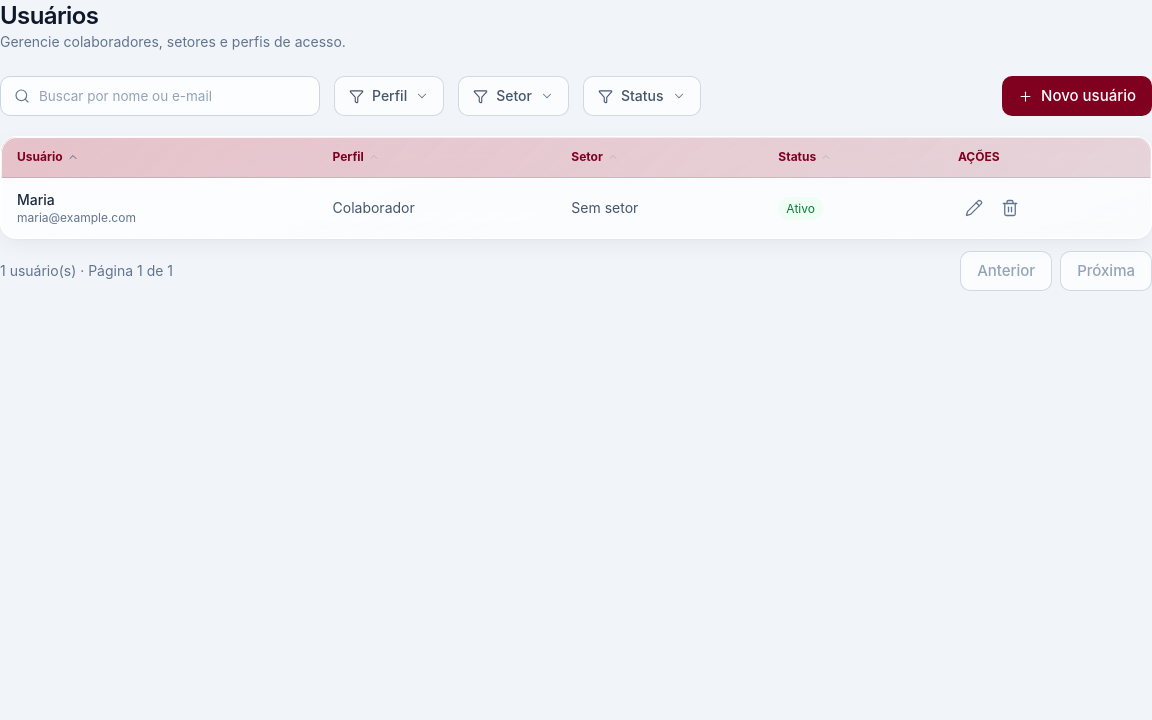
Test: USU-01/USU-02 — paginação e falhas de validação › preserva o formulário e associa e-mail duplicado ao campo
Expected: the text "Maria" is shown, [17, 191, 55, 208]
Click the button "Novo usuário": (1077, 96) [1002, 76, 1151, 116]
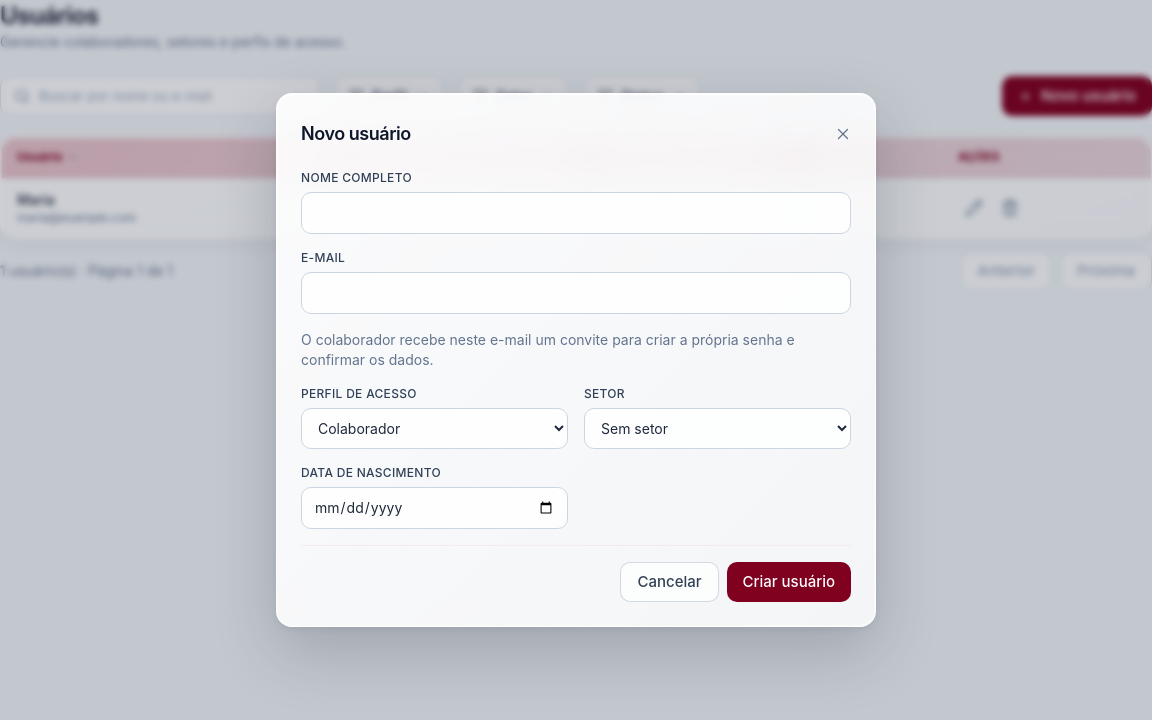
In the field labelled "Nome completo": (576, 213) [301, 192, 851, 234], type "Maria"
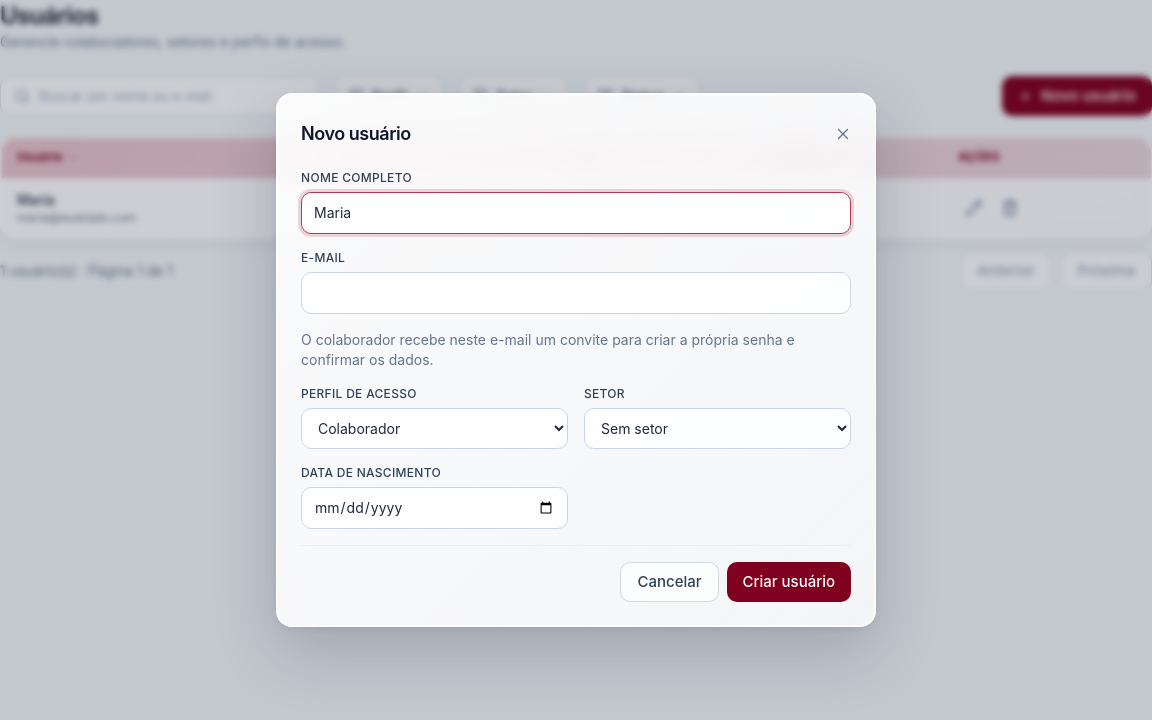
In the field labelled "E-mail": (576, 293) [301, 272, 851, 314], type "maria@example.com"
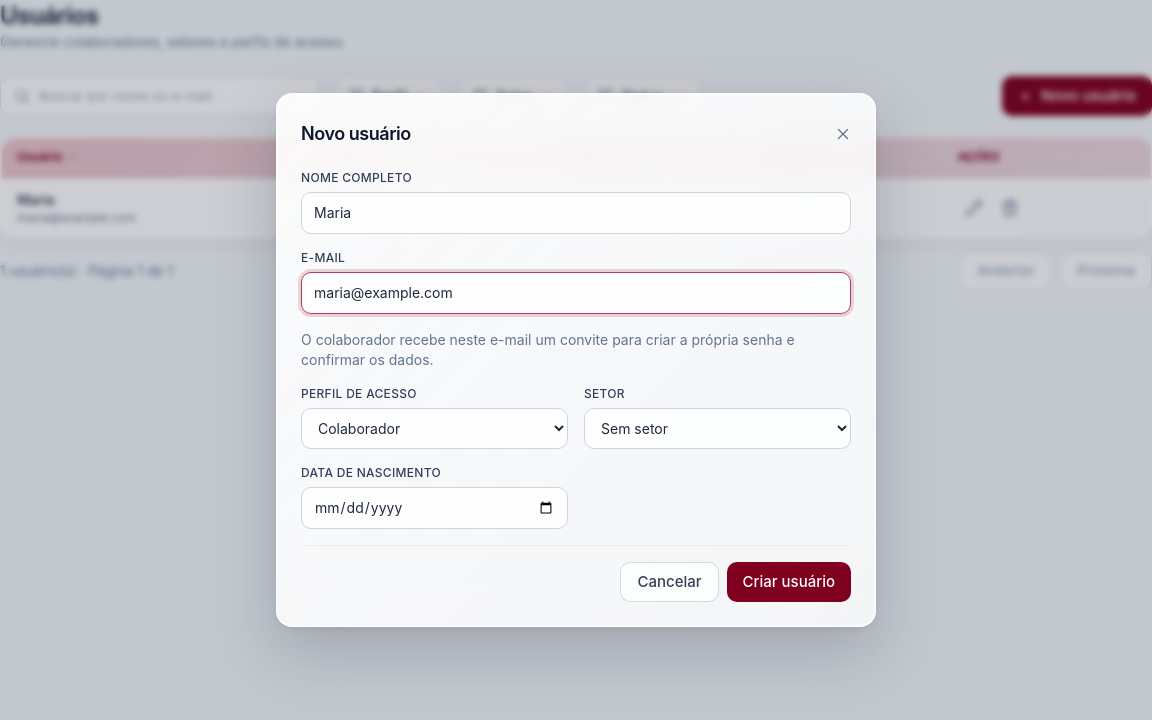
Click the button "Criar usuário": (789, 582) [727, 562, 851, 602]
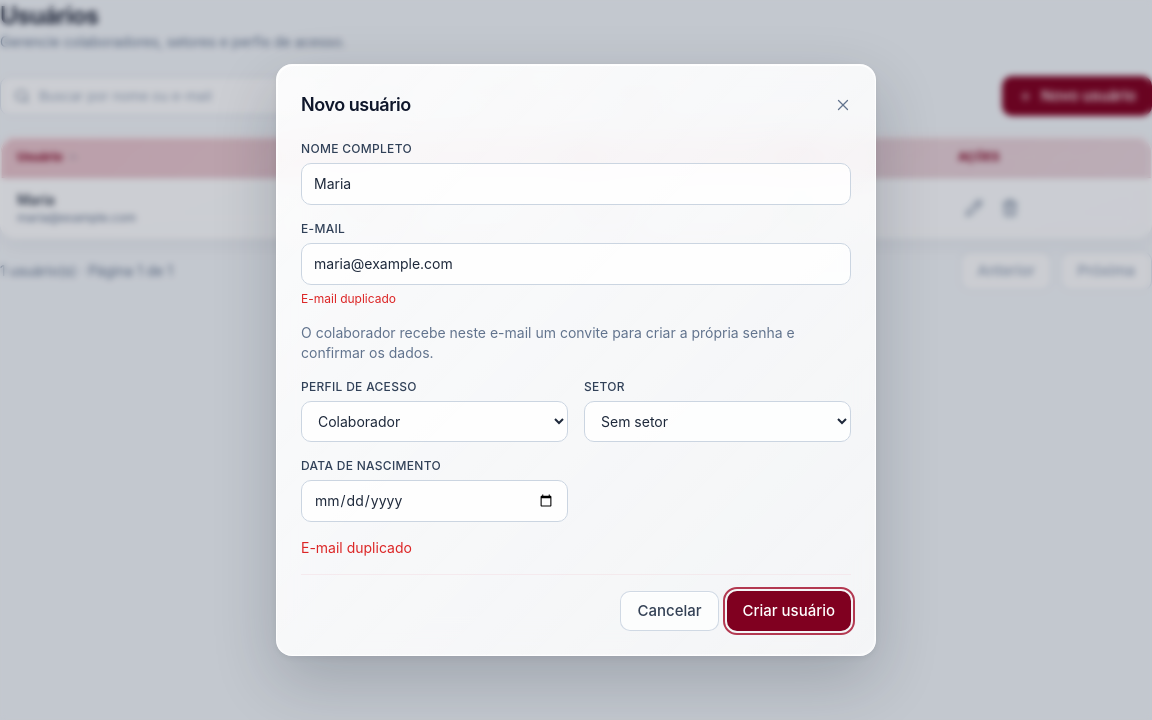
Expected: the dialog is shown, [276, 64, 876, 656]
Expected: the text "E-mail duplicado" is shown 2 times, [301, 291, 396, 306]; [301, 539, 412, 556]
